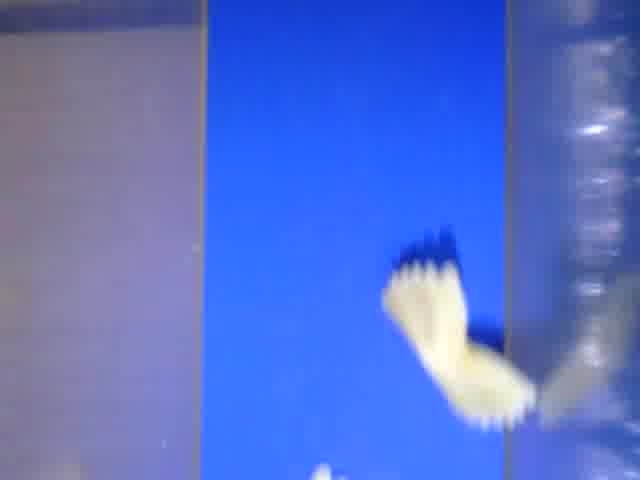farfalle: (380, 260, 535, 427)
